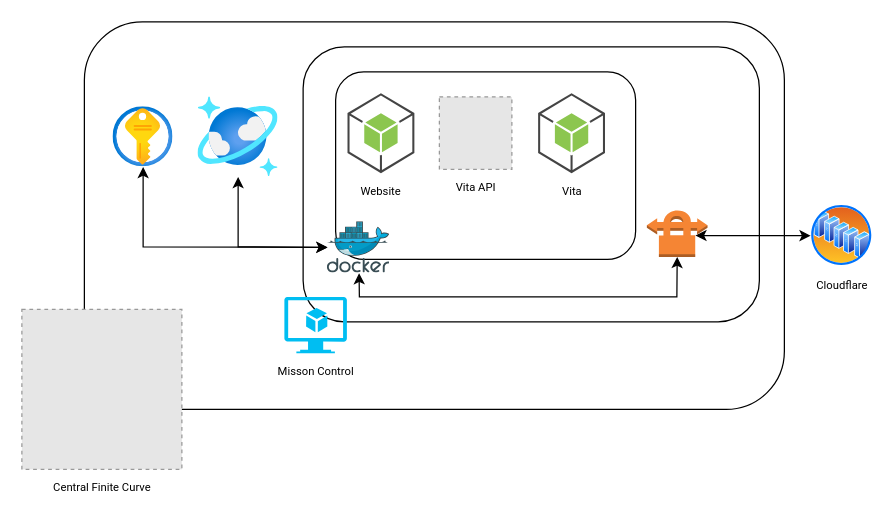
This 895x518 diagram has some shape labels left out. Grey dashed boxes stand in for pictures. Here are the shapes that lost their labels. From the top down, the box of each, then its label:
(112, 106, 172, 166): Erebus
(198, 96, 278, 176): Database
(646, 208, 708, 257): Cloudflare Tunnel
